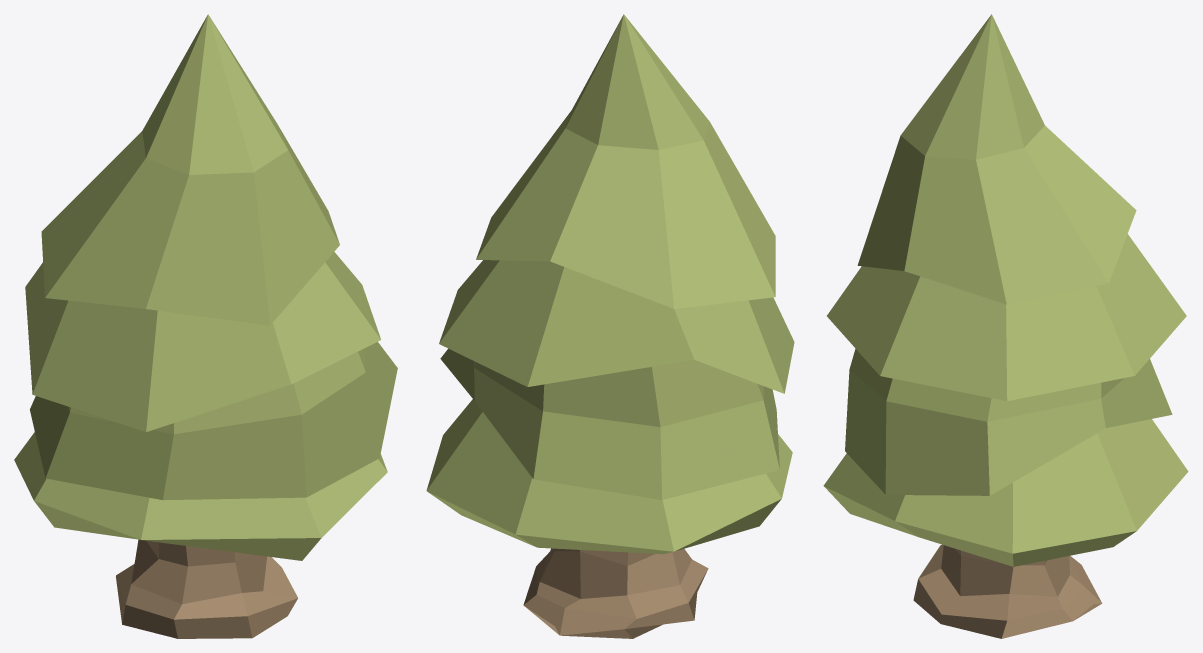
The model's file is tree_v3.glb.
3 renders of one model, left to right at view 1: azimuth 30°, elevation 25°; view 2: azimuth 150°, elevation 25°; view 3: azimuth 270°, elevation 25°, orthographic. The views are drawn at different scales.
Visible parts, largest first — view 1: Circle.004, Circle.001; view 2: Circle.004, Circle.001; view 3: Circle.004, Circle.001.
Part boxes in pixels (left/top/right/bottom): Circle.004: left=14, top=14, right=397, bottom=560; Circle.001: left=116, top=539, right=297, bottom=638; Circle.004: left=426, top=14, right=794, bottom=554; Circle.001: left=523, top=548, right=708, bottom=638; Circle.004: left=823, top=14, right=1188, bottom=566; Circle.001: left=913, top=544, right=1102, bottom=638.
Bounding box in the file's own units: 2.34 × 3.75 × 2.1.
